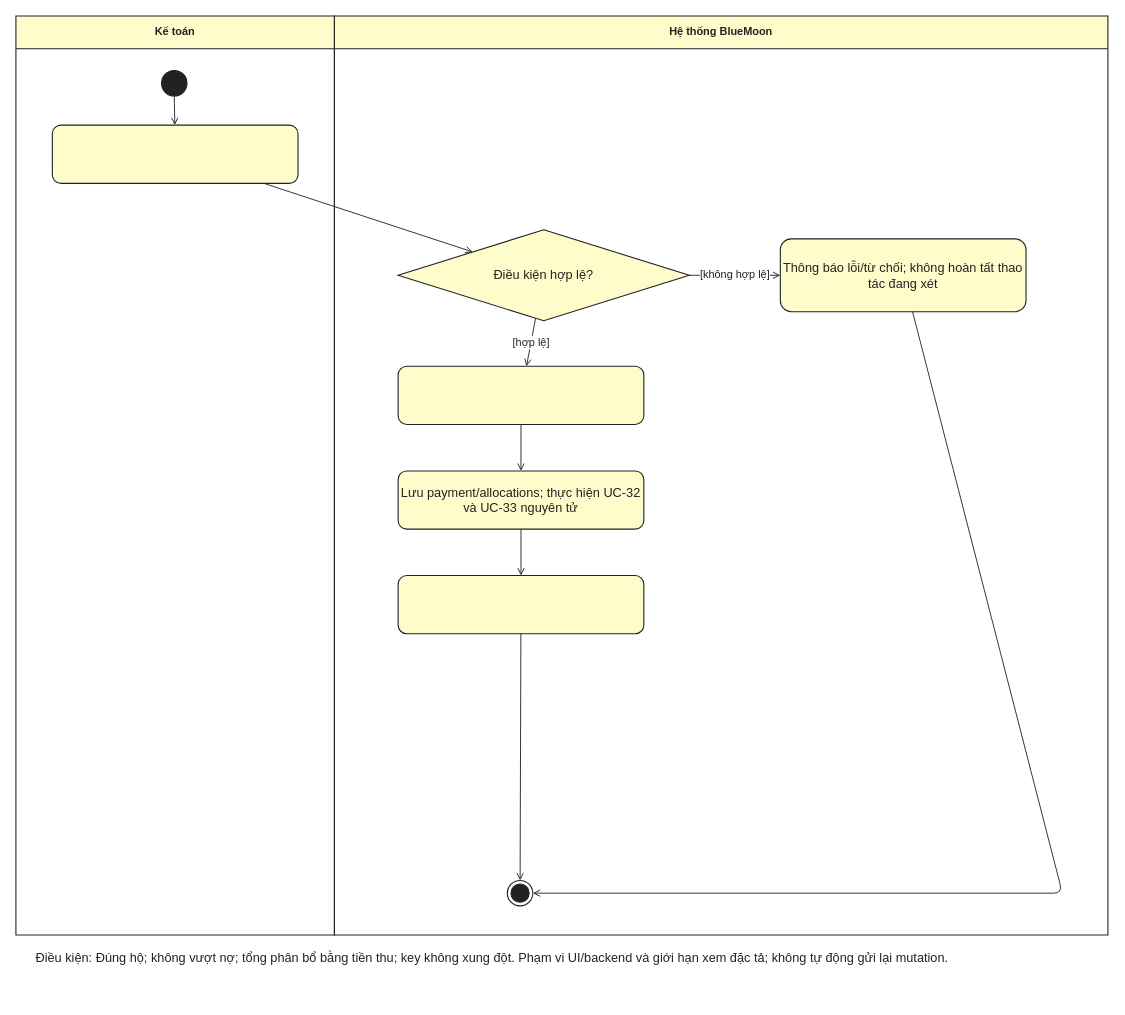
This 1125x1015 diagram has some shape labels left out. The box of each missing label's shape, as (x1, y1, x2, y2) in pixels:
Kiểm tra quyền, ngày thu, đích phân bổ và tổng tiền bằng tổng phân bổ: (397, 365, 644, 425)
Nhập hộ, tiền thu và phân bổ khoản cần thanh toán: (51, 124, 298, 183)
Trả giao dịch đã thu; cùng key và fingerprint trả lại kết quả trước: (397, 575, 644, 634)
